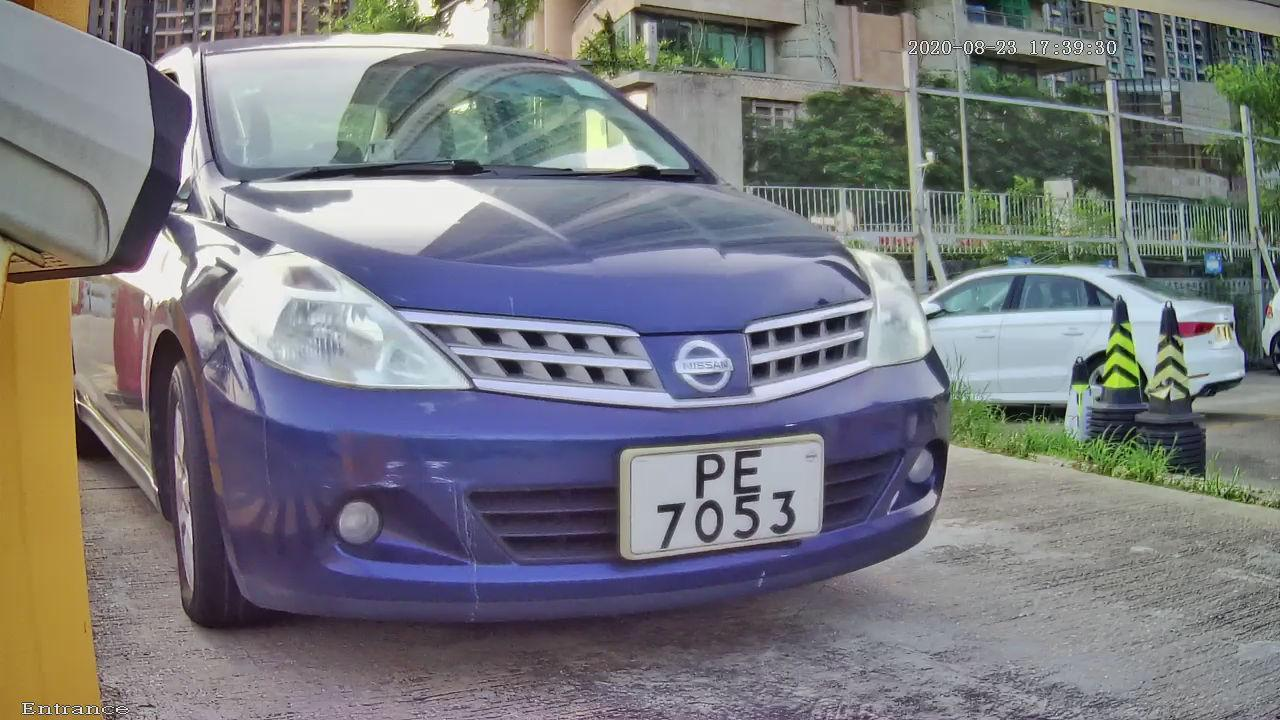Car: (41, 4, 1086, 672)
License Plate: (565, 394, 886, 597)
